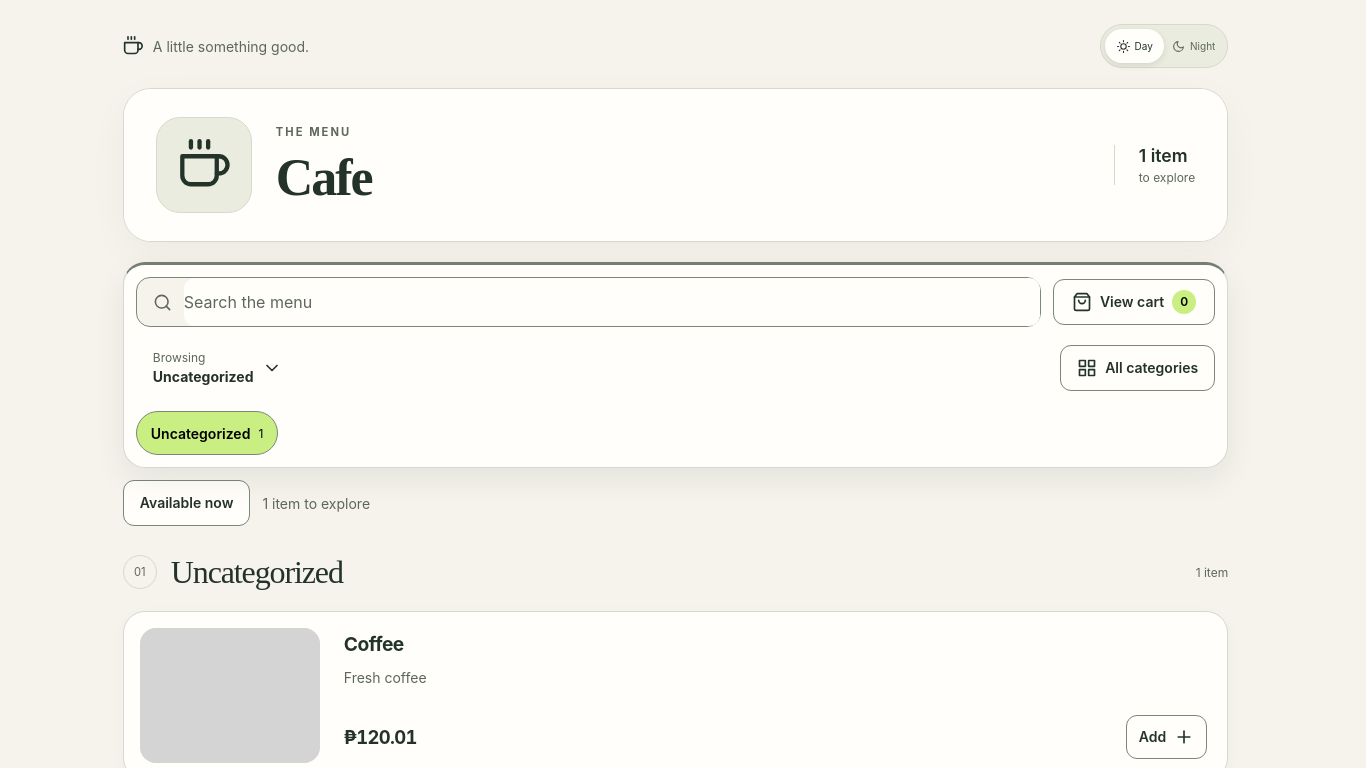
retains selection context after network failure and retries the read successfully
Click the button with aria-label "Add Coffee": (1166, 737) [1126,715,1207,759]
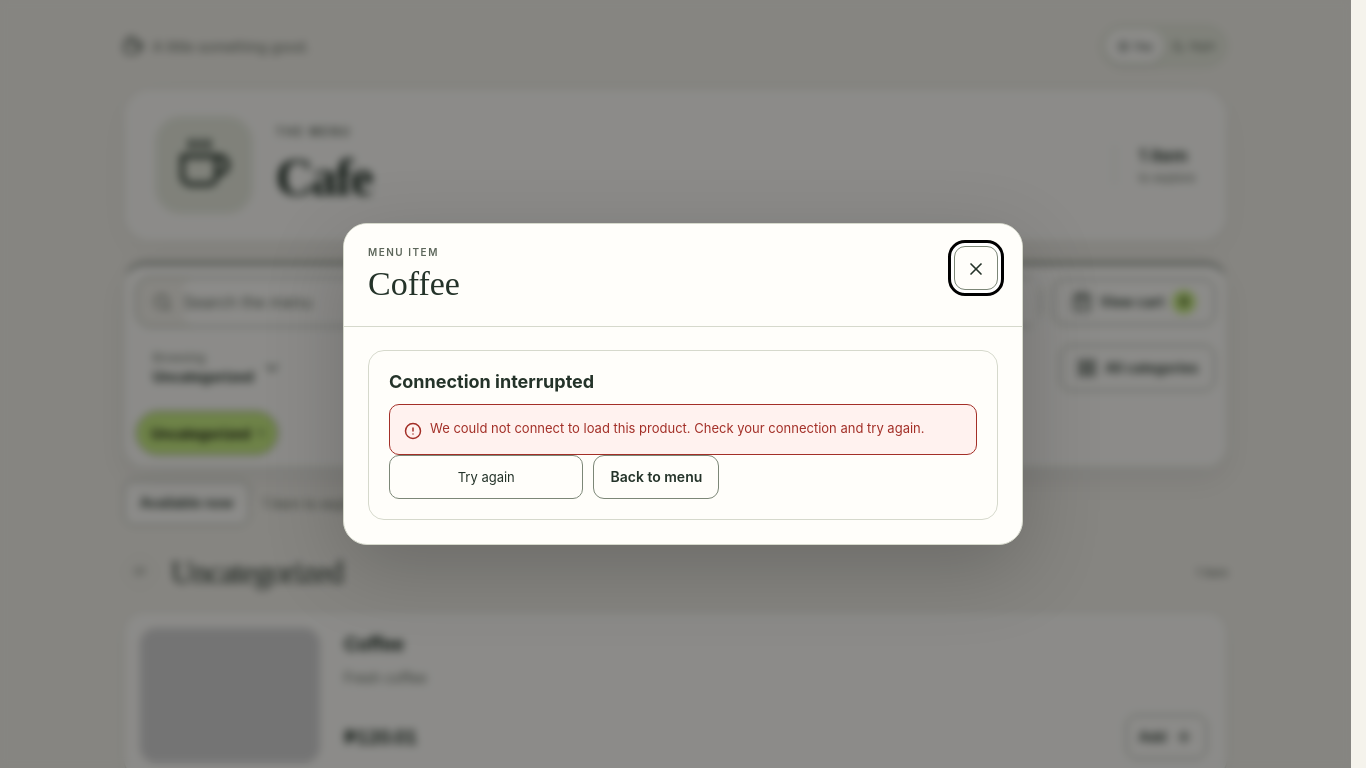
Now the message shows "Check your connection", box [430,420,924,436]
Click the button "Try again": (486, 477) [389,455,584,499]
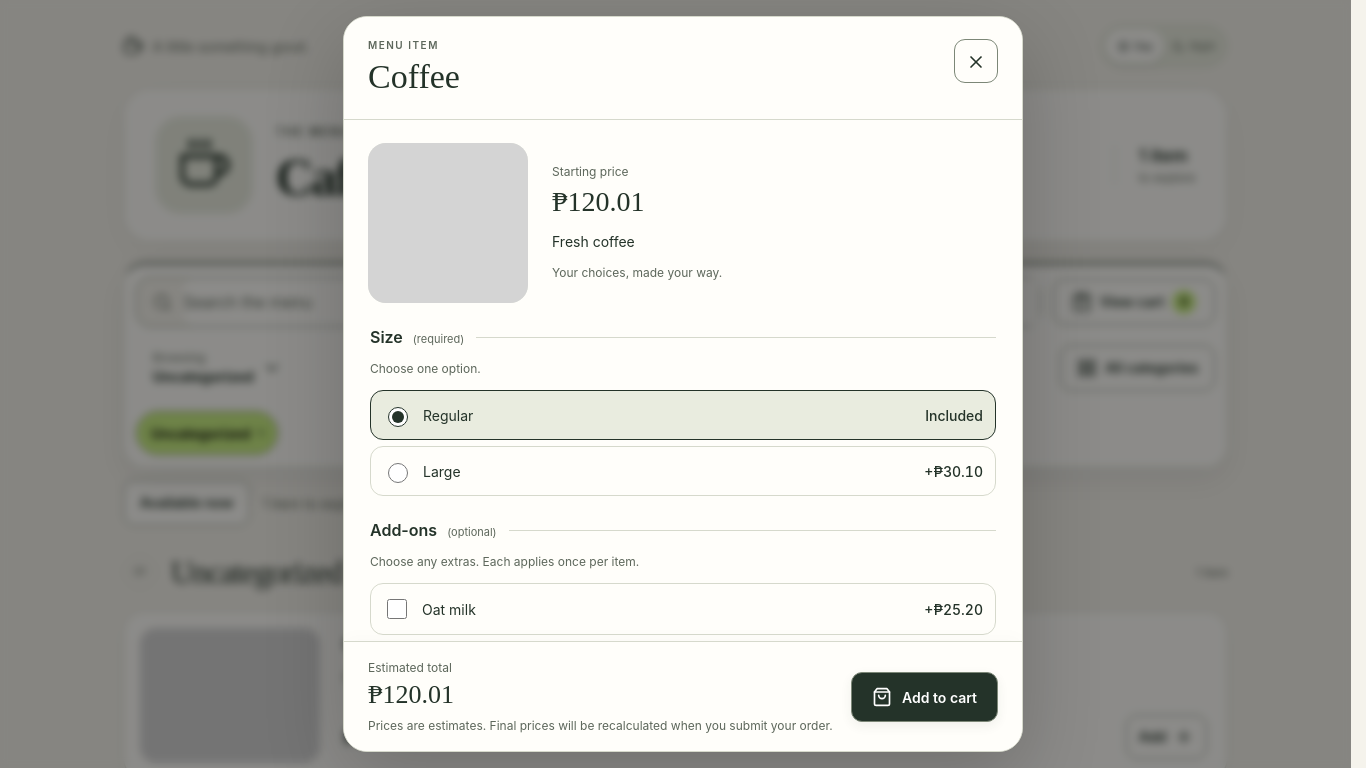
Now the button "Add to cart" is enabled, box [851,672,998,722]
